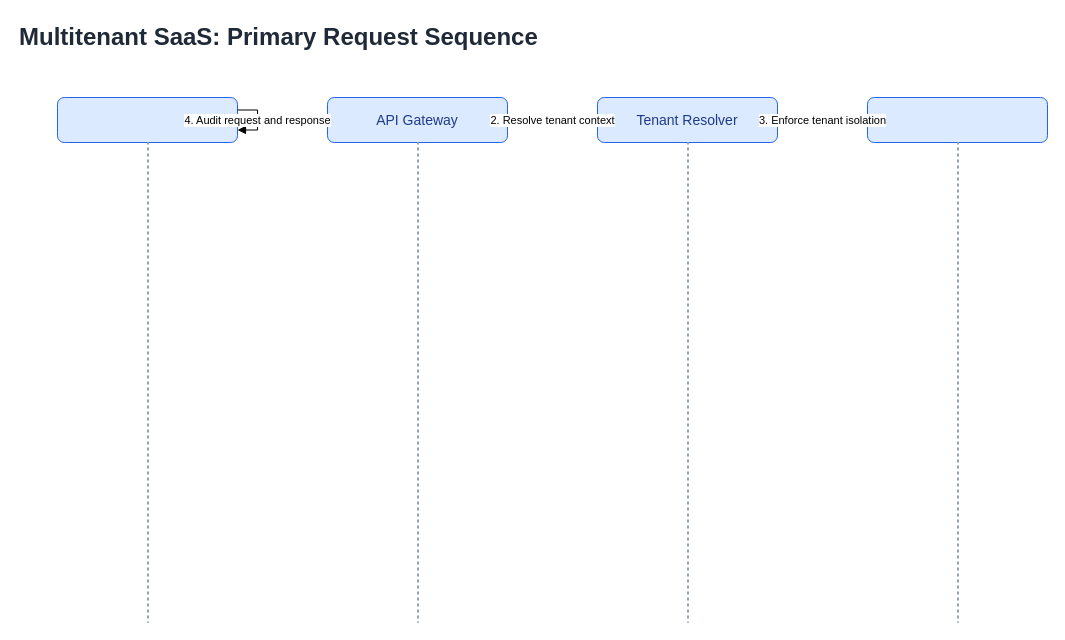
This 1065x640 diagram has some shape labels left out. Here are the shapes that lost their labels. From the top down, the box of each, then its label:
(56, 96, 238, 142): Client
(866, 96, 1048, 142): Identity Service
